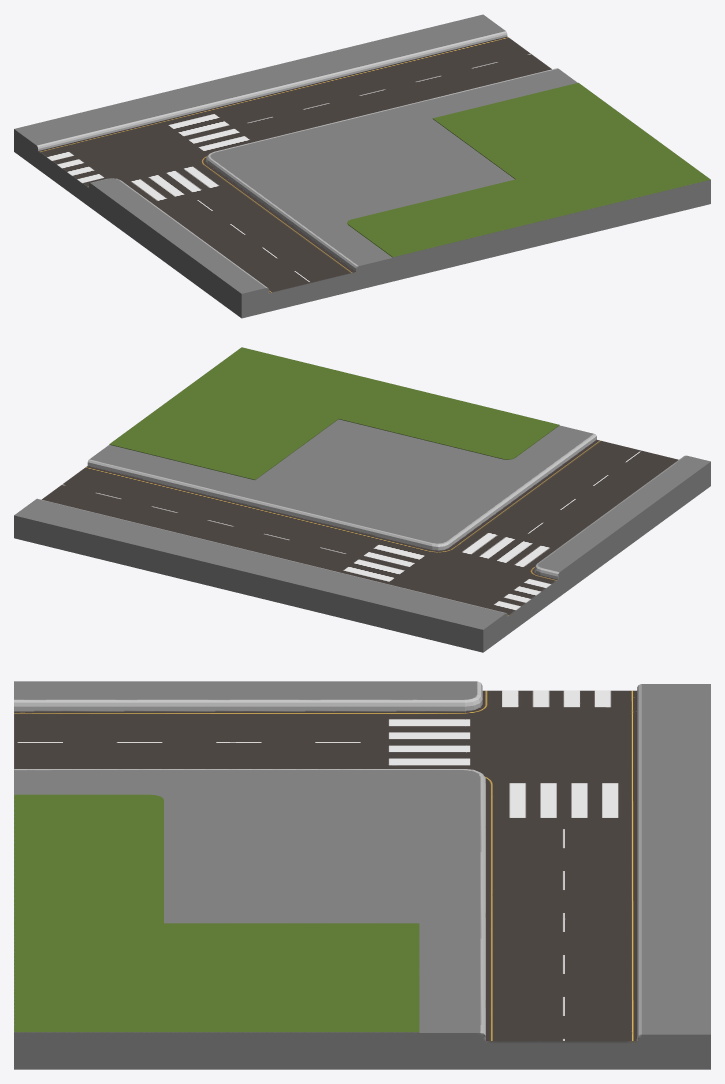
File: Environments.fbx
3 renders of one model, top to bottom at view 1: azimuth 30°, elevation 25°; view 2: azimuth 150°, elevation 25°; view 3: azimuth 270°, elevation 25°, orthographic. The views are drawn at different scales.
Parts seen in each view (by area): view 1: Environment; view 2: Environment; view 3: Environment.
Boxes of the visible parts, x1,y1,x2,y2 form: Environment: (14,14,710,318); Environment: (14,347,710,652); Environment: (14,681,710,1069).
Size of the model in its own units: 10813 by 542 by 9088.
Materials: 1 (1 with a texture image).
